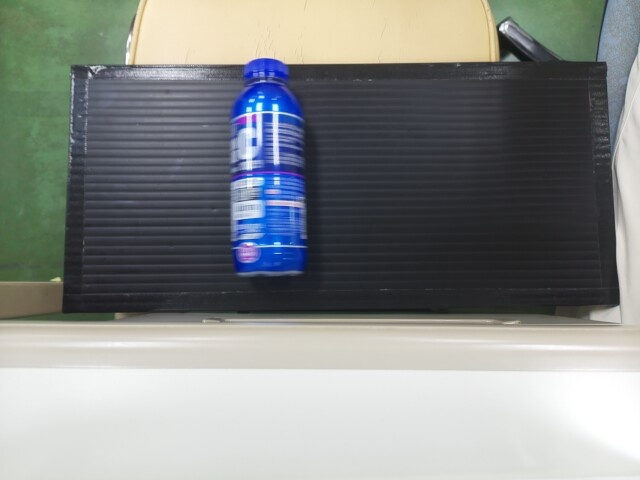plastic_bottle: (223, 52, 306, 273)
